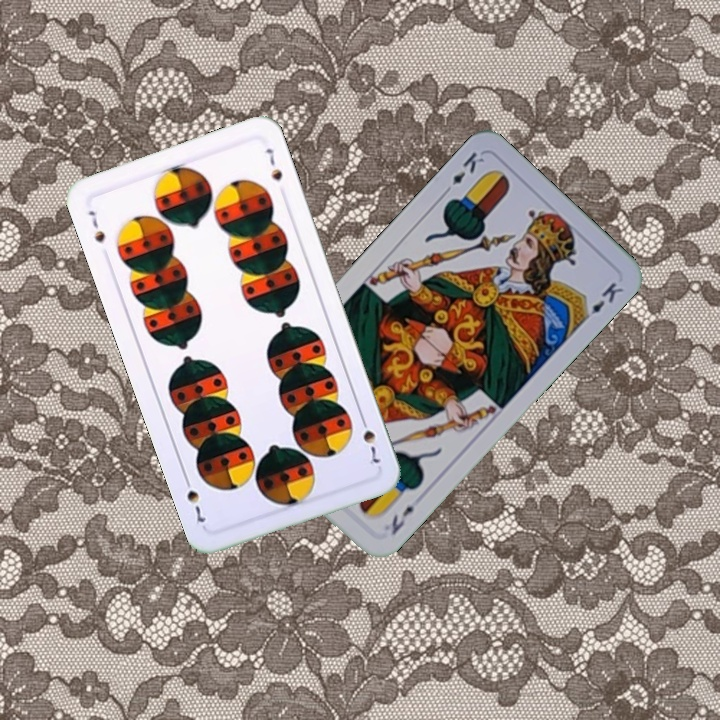EK: (439, 148, 487, 198), (387, 501, 417, 538)
S7: (356, 411, 382, 467), (84, 206, 108, 245)
